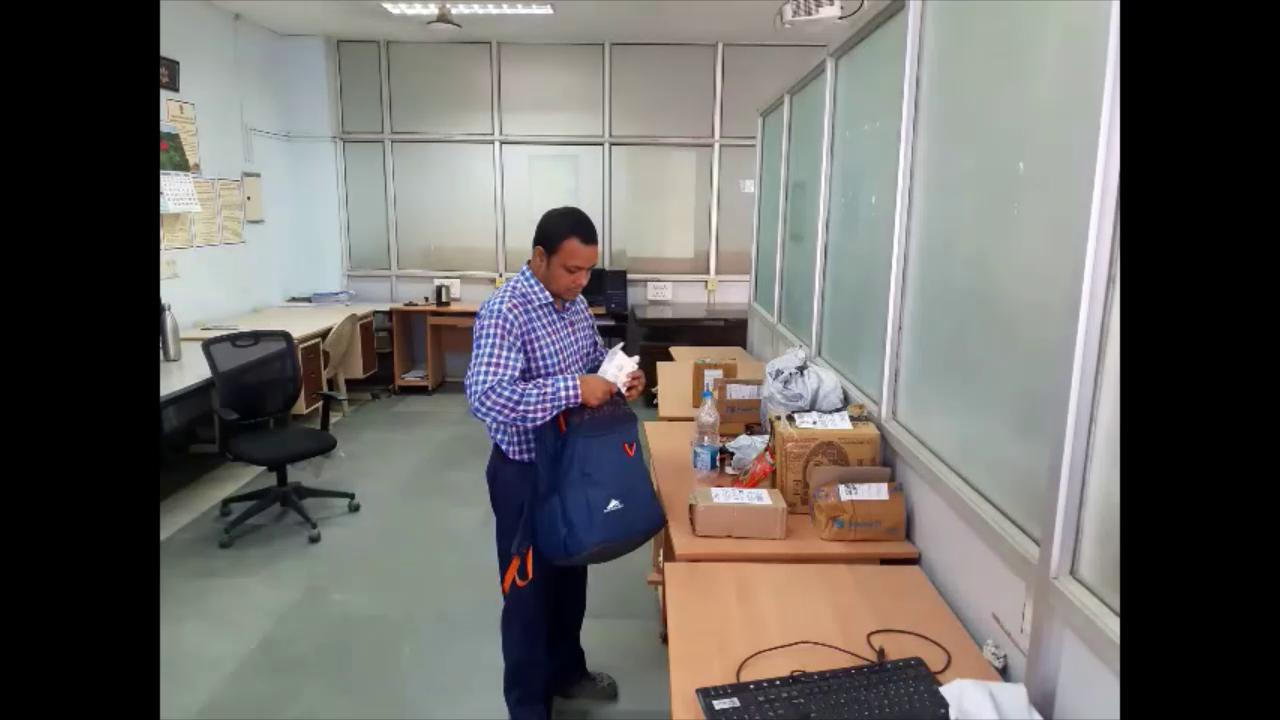shoplifting: (445, 189, 671, 720)
